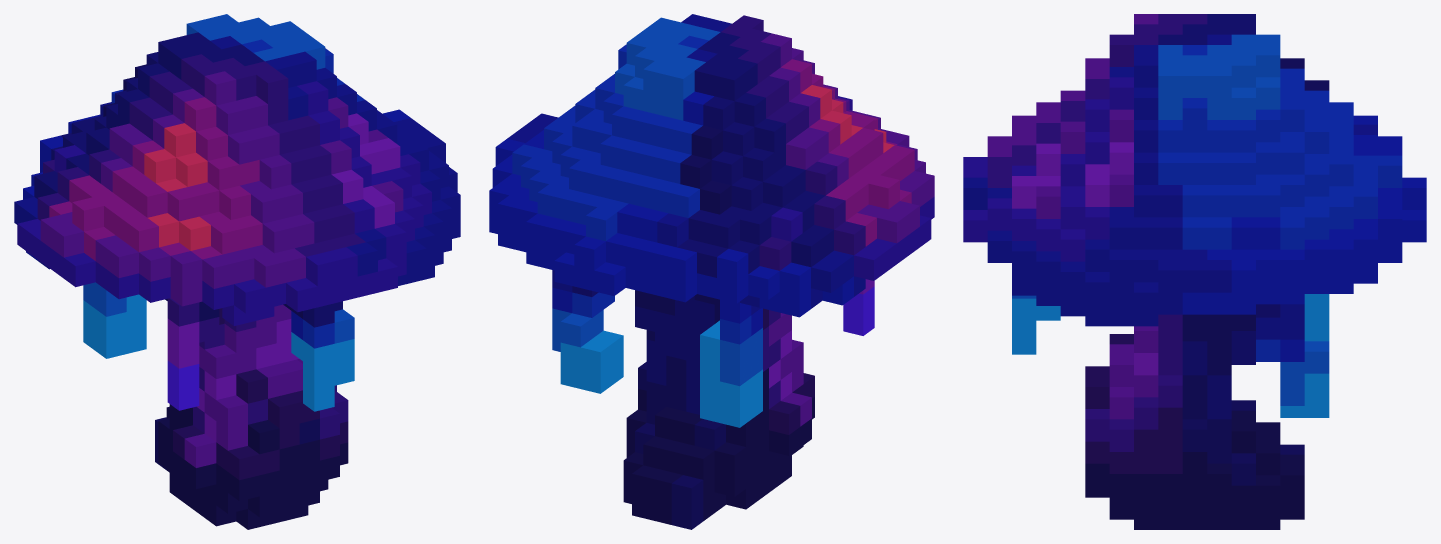
Rendered from overseer-mushroom-5.glb.
3 views of the same model, side by side, from view 1: azimuth 30°, elevation 25°; view 2: azimuth 150°, elevation 25°; view 3: azimuth 270°, elevation 25° (orthographic). The views are drawn at different scales.
Parts seen in each view (by area): view 1: world; view 2: world; view 3: world.
Part boxes in pixels (box(x1,y1,x2,y2)): world: box(14, 14, 460, 529); world: box(489, 14, 934, 529); world: box(963, 14, 1426, 529).
Size of the model in its own units: 0.6716 by 0.7423 by 0.6716.
1 material, 1 textured.
